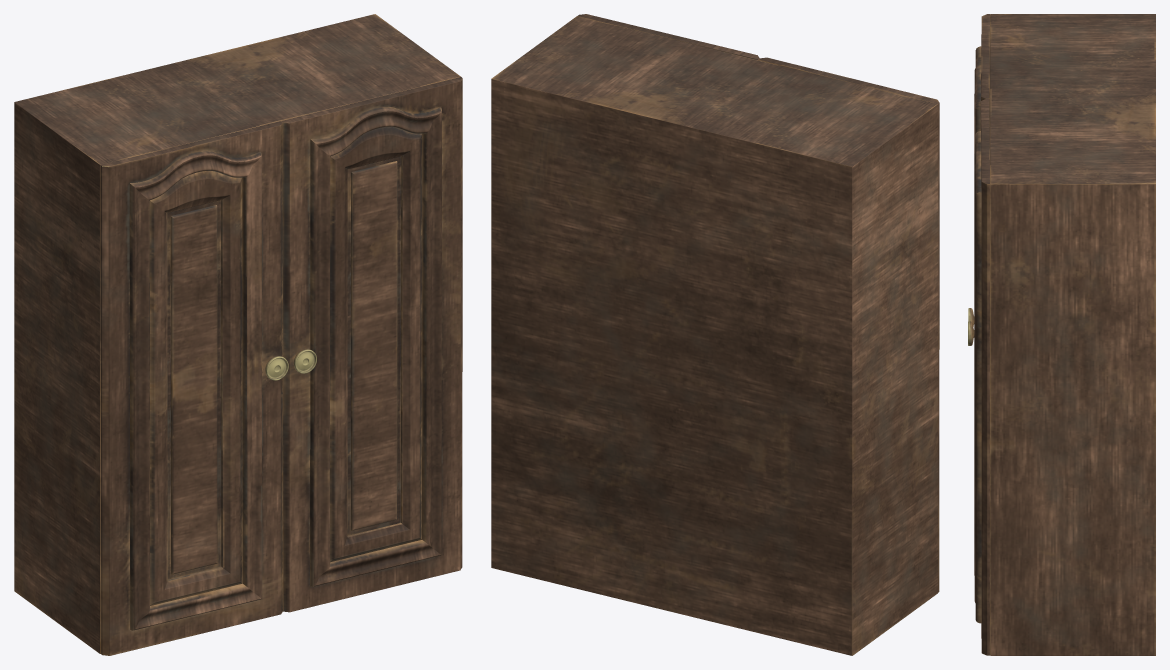
File: hut_Cupboard.fbx
3 renders of one model, left to right at view 1: azimuth 30°, elevation 25°; view 2: azimuth 150°, elevation 25°; view 3: azimuth 270°, elevation 25°, orthographic. The views are drawn at different scales.
Parts seen in each view (by area): view 1: Door_005; view 2: Door_005; view 3: Door_005.
Boxes of the visible parts, box(x1,y1,x2,y2) form: Door_005: box(14, 14, 462, 655); Door_005: box(491, 14, 939, 655); Door_005: box(968, 14, 1155, 655).
Bounding box in the file's own units: 15310 × 19819 × 7147.
